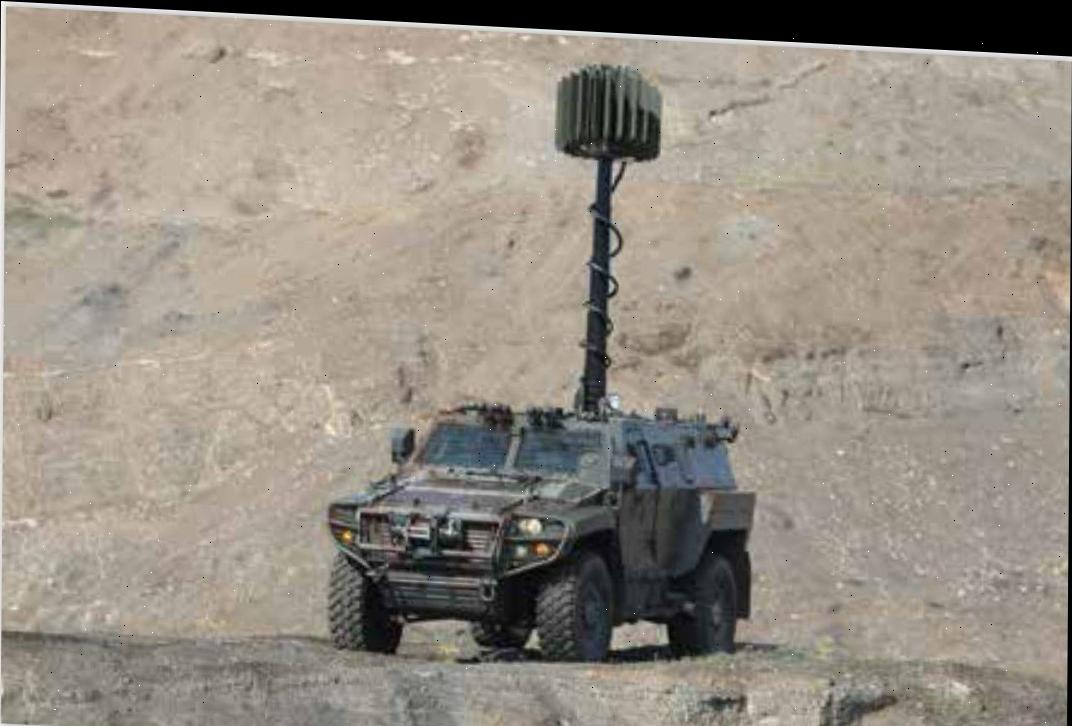armored_car: (325, 389, 756, 672)
